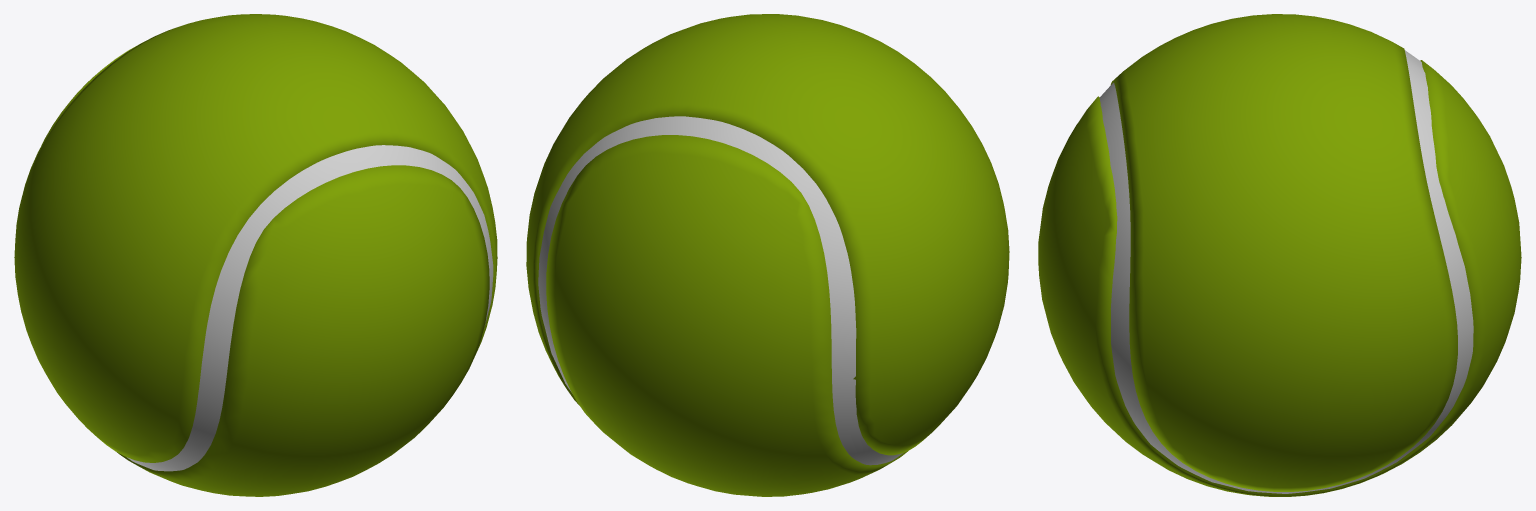
Rendered from Tennis.glb.
3 renders of one model, left to right at view 1: azimuth 30°, elevation 25°; view 2: azimuth 150°, elevation 25°; view 3: azimuth 270°, elevation 25°, orthographic.
Visible parts, largest first — view 1: Null_Subdivision_Surface_1, Null_Subdivision_Surface_1_Subdivision_Surface_11_Subdi_a4e8; view 2: Null_Subdivision_Surface_1, Null_Subdivision_Surface_1_Subdivision_Surface_11_Subdi_a4e8; view 3: Null_Subdivision_Surface_1, Null_Subdivision_Surface_1_Subdivision_Surface_11_Subdi_a4e8.
Boxes of the visible parts, x1,y1,x2,y2 form: Null_Subdivision_Surface_1: (14, 14, 497, 496); Null_Subdivision_Surface_1_Subdivision_Surface_11_Subdi_a4e8: (127, 145, 493, 471); Null_Subdivision_Surface_1: (526, 14, 1009, 496); Null_Subdivision_Surface_1_Subdivision_Surface_11_Subdi_a4e8: (538, 116, 902, 465); Null_Subdivision_Surface_1: (1038, 14, 1521, 496); Null_Subdivision_Surface_1_Subdivision_Surface_11_Subdi_a4e8: (1099, 50, 1473, 493).
Size of the model in its own units: 2.3 by 2.3 by 2.3.
